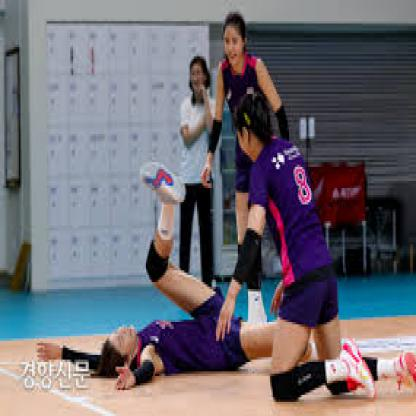Fall_Down: (37, 164, 336, 390)
